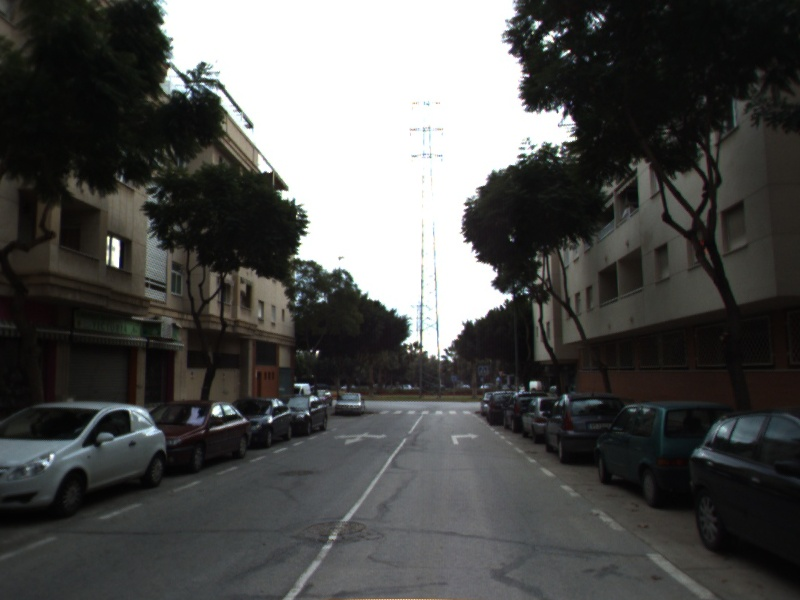RIGHT: (449, 431, 481, 446)
